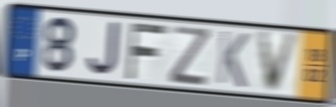8: (42, 15, 76, 75)
F: (124, 20, 169, 81)
J: (85, 20, 121, 78)
K: (215, 28, 251, 91)
V: (256, 30, 302, 95)
Z: (167, 24, 212, 88)
